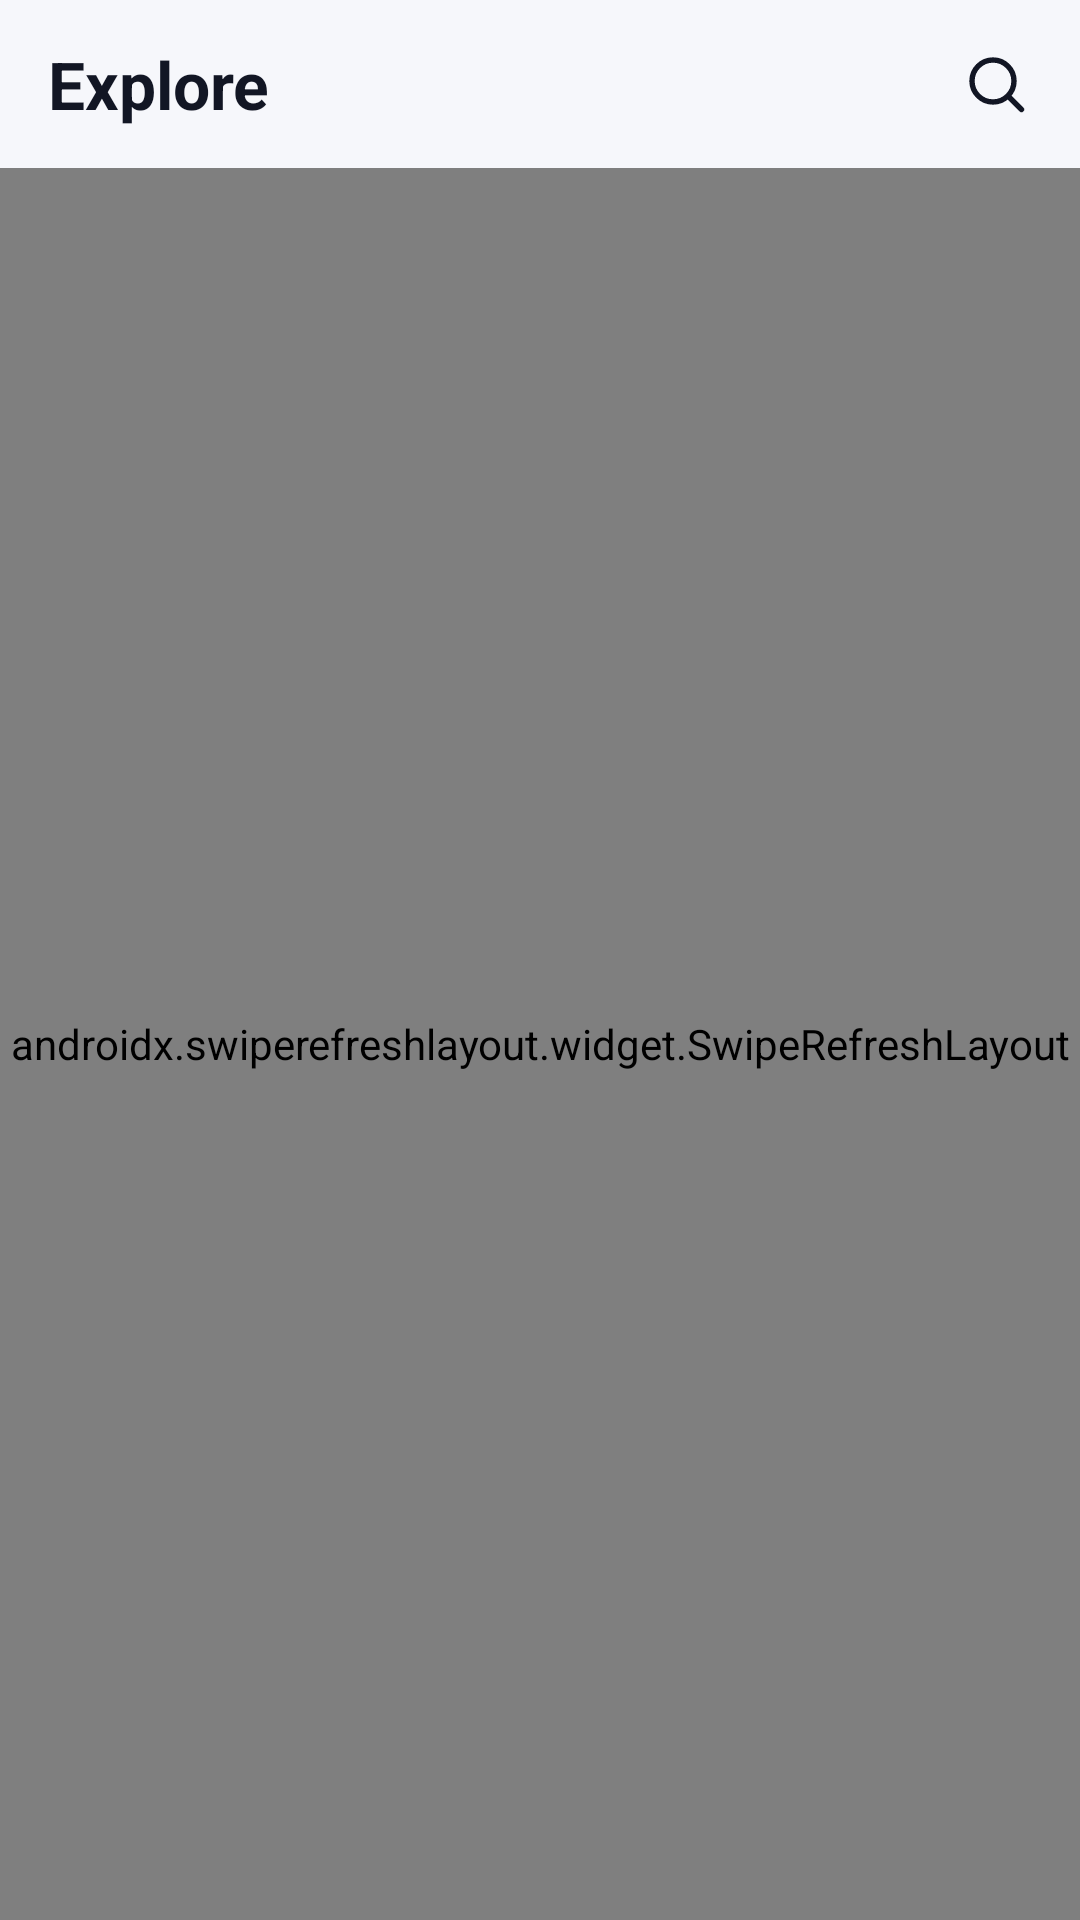

Where to tap for icons on this 1080x1920 app screen, as point (x, y):
Search coins: point (997, 85)
